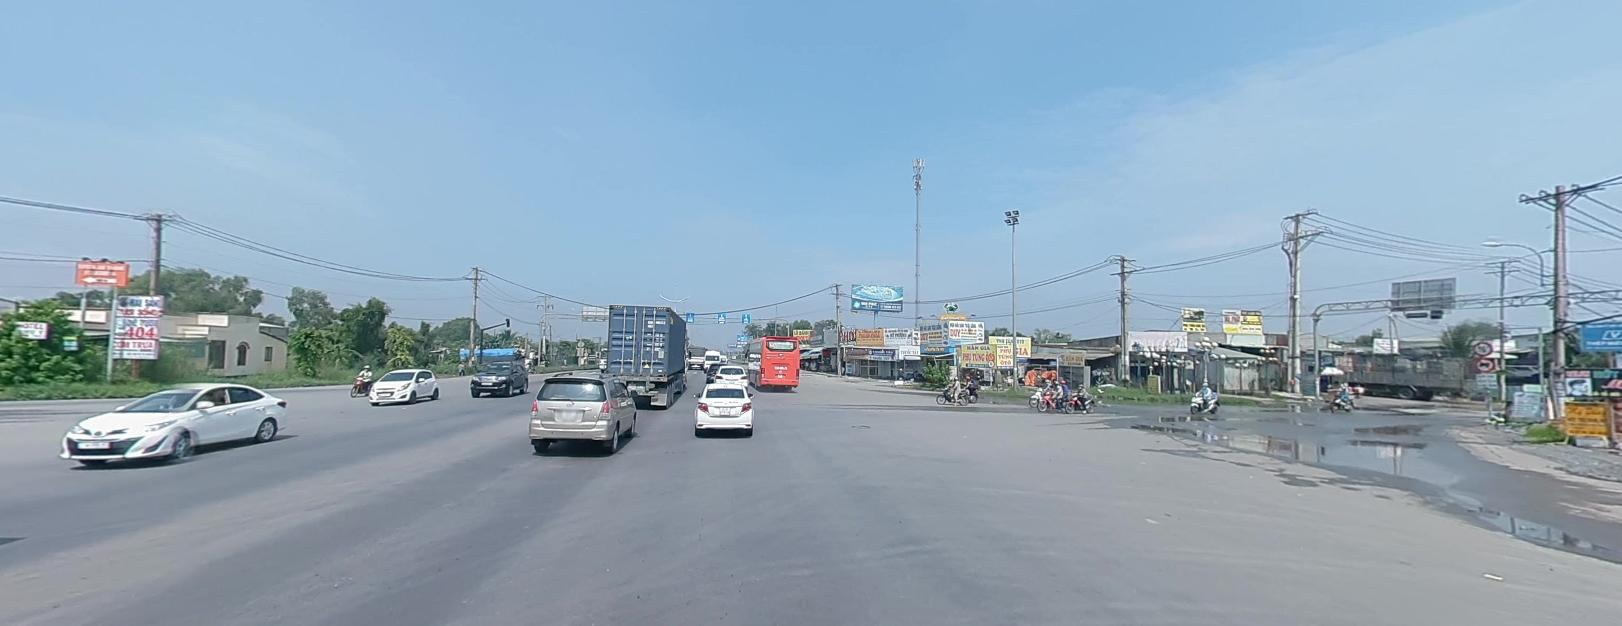Cam con lai: (1473, 356, 1495, 371), (1473, 339, 1492, 354)
